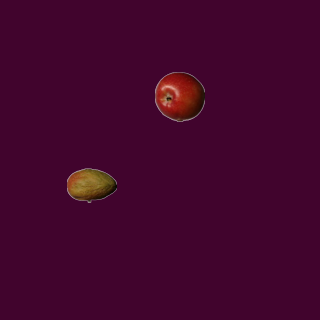Apple Braeburn: (154, 71, 204, 121)
Papaya: (66, 160, 116, 210)
